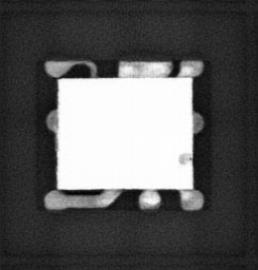DIE_INK: (176, 152, 191, 164)
